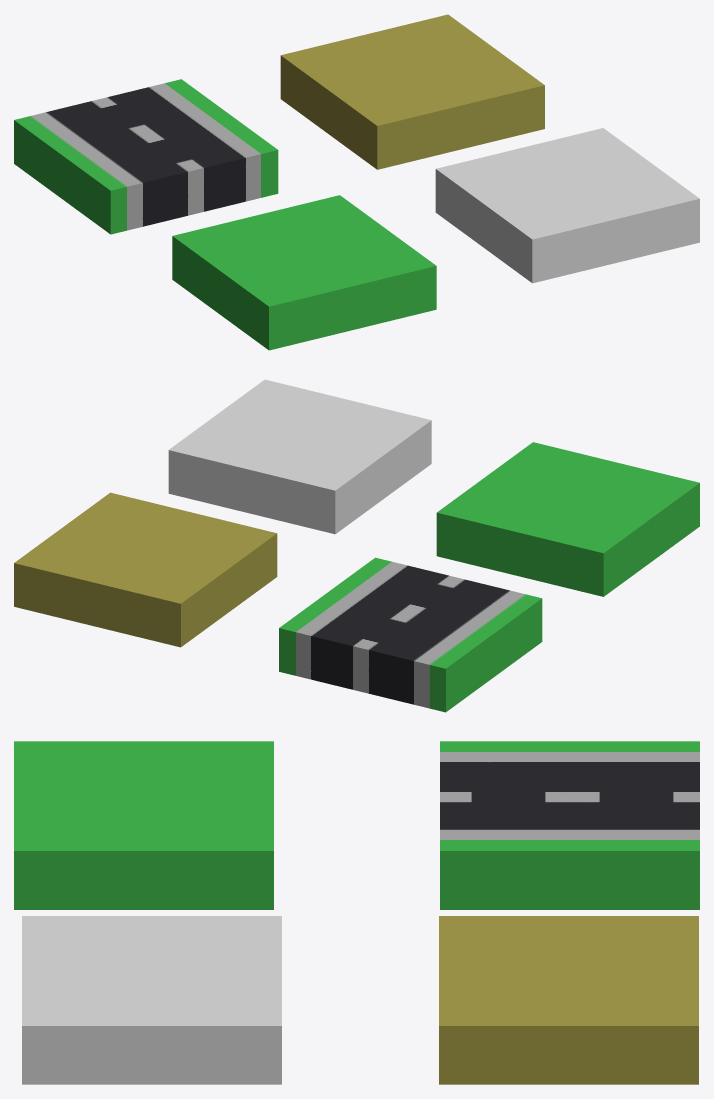
3 views of the same model, one above another, from view 1: azimuth 30°, elevation 25°; view 2: azimuth 150°, elevation 25°; view 3: azimuth 270°, elevation 25° (orthographic). The views are drawn at different scales.
Visible parts, largest first — view 1: pCube4, pCube2, pCube1, pCube3; view 2: pCube3, pCube1, pCube4, pCube2; view 3: pCube1, pCube2, pCube3, pCube4.
Boxes of the visible parts, x1=… form: pCube4: x1=172, y1=195, x2=436, y2=350; pCube2: x1=280, y1=14, x2=544, y2=169; pCube1: x1=435, y1=128, x2=699, y2=283; pCube3: x1=14, y1=79, x2=278, y2=234; pCube3: x1=279, y1=557, x2=542, y2=712; pCube1: x1=168, y1=379, x2=431, y2=534; pCube4: x1=436, y1=442, x2=699, y2=596; pCube2: x1=14, y1=492, x2=277, y2=647; pCube1: x1=22, y1=916, x2=281, y2=1084; pCube2: x1=439, y1=916, x2=698, y2=1084; pCube3: x1=440, y1=741, x2=699, y2=909; pCube4: x1=14, y1=741, x2=273, y2=909.
Size of the model in its own units: 10.36 by 1 by 10.55.
4 materials, 2 textured.
